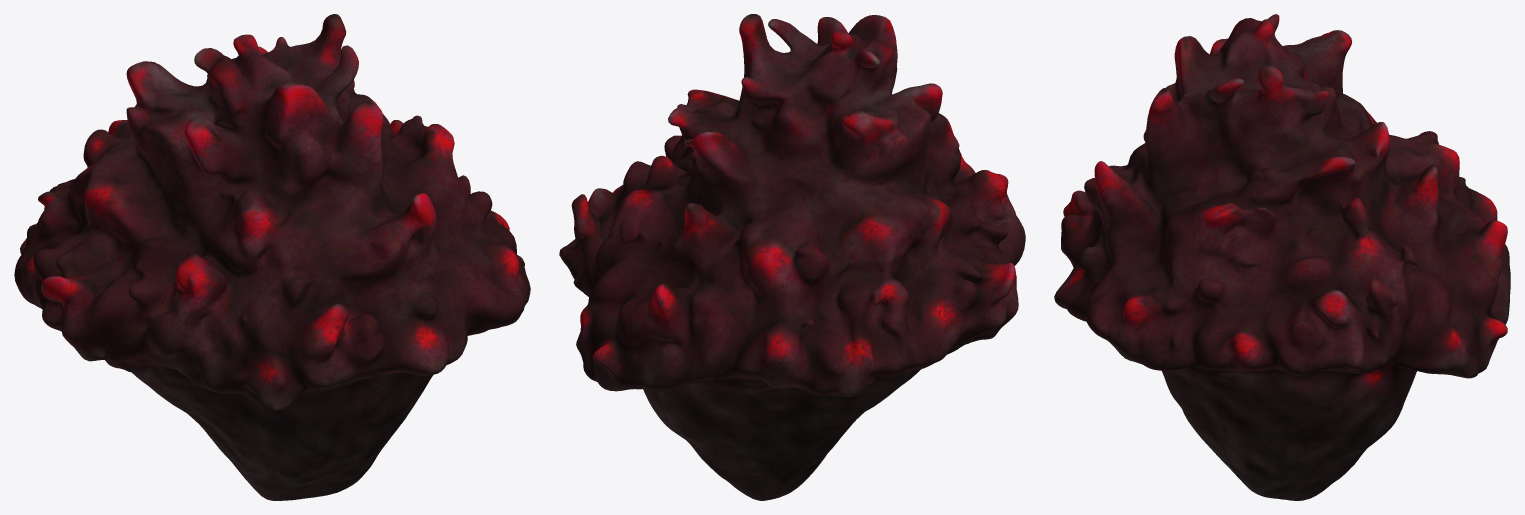
File: 1b3b584de506_low_poly_nether_war.fbx
3 views of the same model, side by side, from view 1: azimuth 30°, elevation 25°; view 2: azimuth 150°, elevation 25°; view 3: azimuth 270°, elevation 25° (orthographic). The views are drawn at different scales.
Parts seen in each view (by area): view 1: high_poly; view 2: high_poly; view 3: high_poly.
Part boxes in pixels (x1,y1,x2,y2): high_poly: [14, 14, 530, 500]; high_poly: [559, 14, 1025, 500]; high_poly: [1054, 14, 1510, 500].
Size of the model in its own units: 94.51 by 100 by 92.19.
